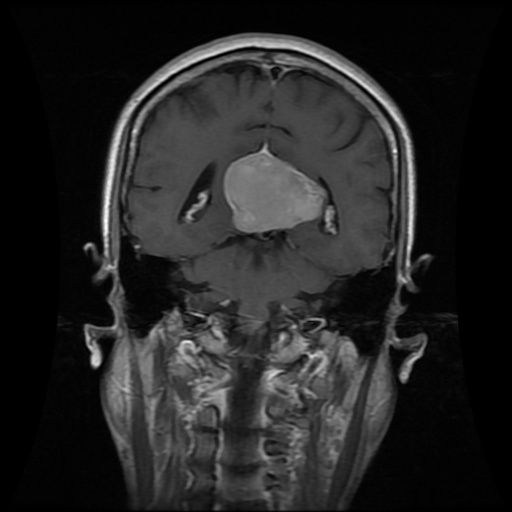meningioma: (224, 151, 327, 232)
